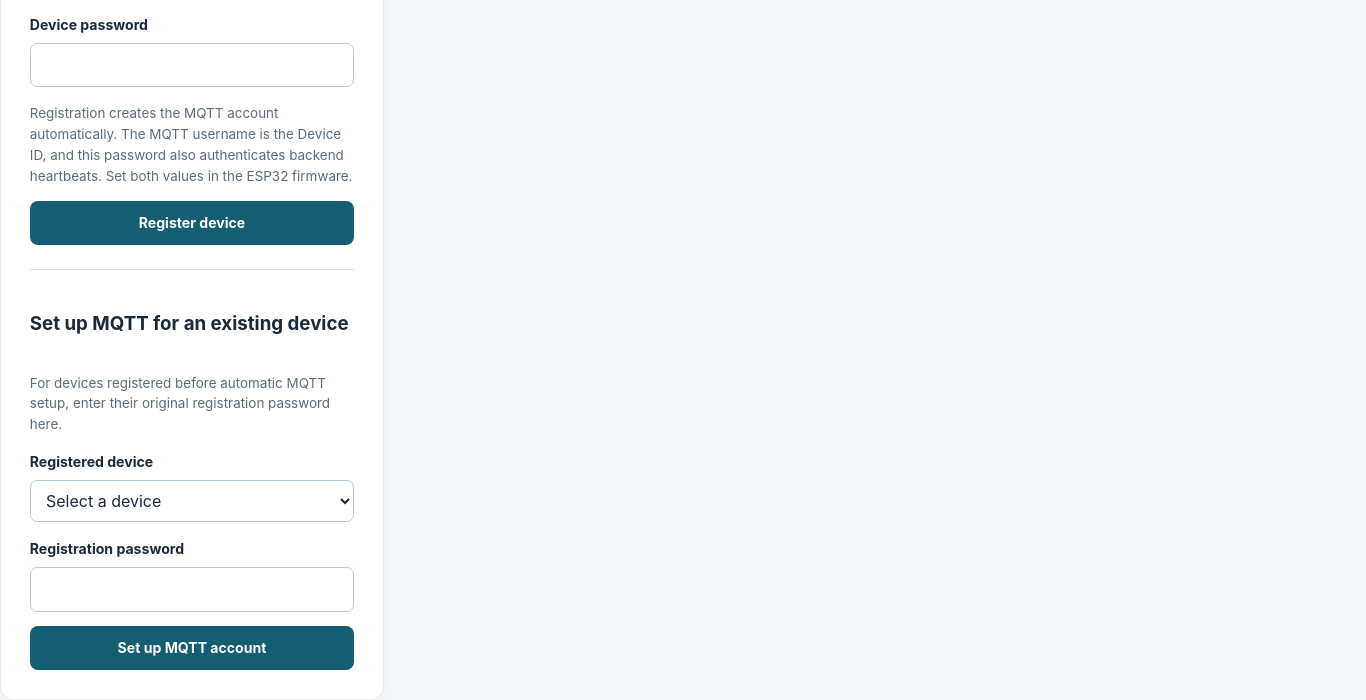
Test case: device management › sets up MQTT for a device registered earlier
The width and height of the screenshot is (1366, 700).
(page scrolled)
Select "ESP nano (esp-nano)" in the dropdown labelled "Registered device". click: (192, 501)
box: [30,480,354,522]
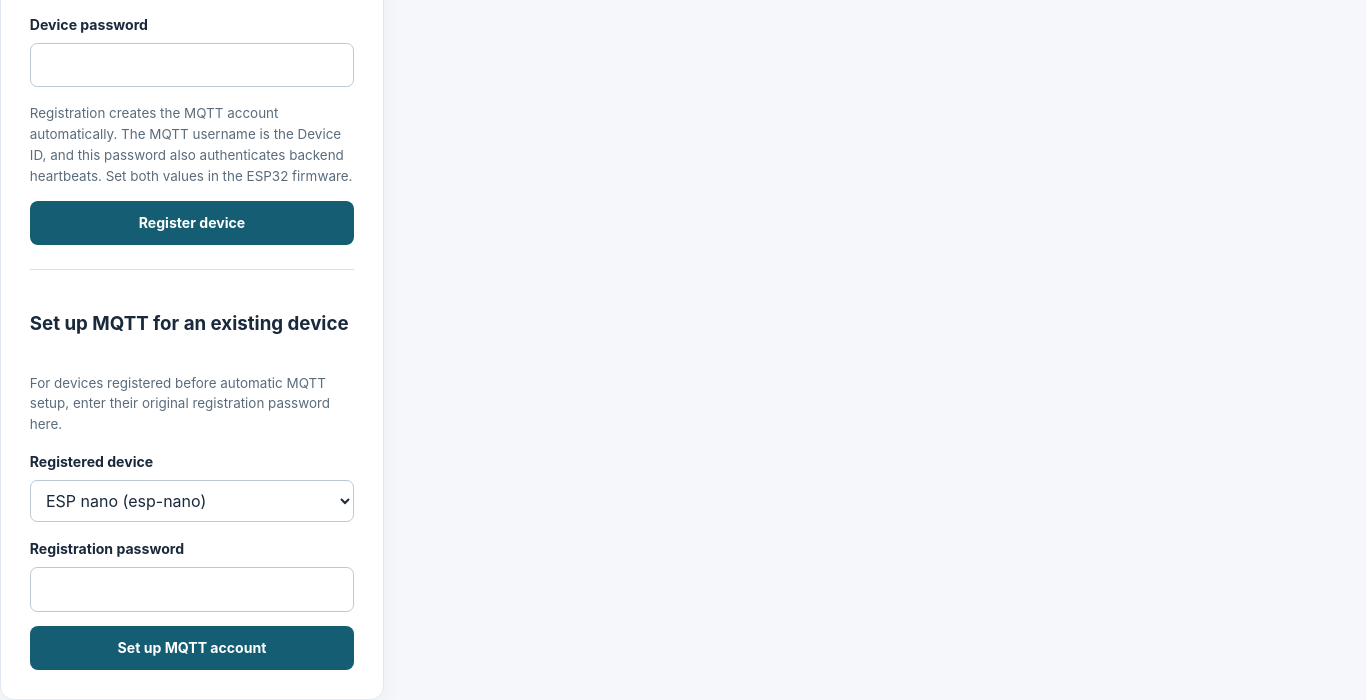
Type "long-device-password-123" into the password field labelled "Registration password". click: (192, 590)
box: [30,567,354,612]
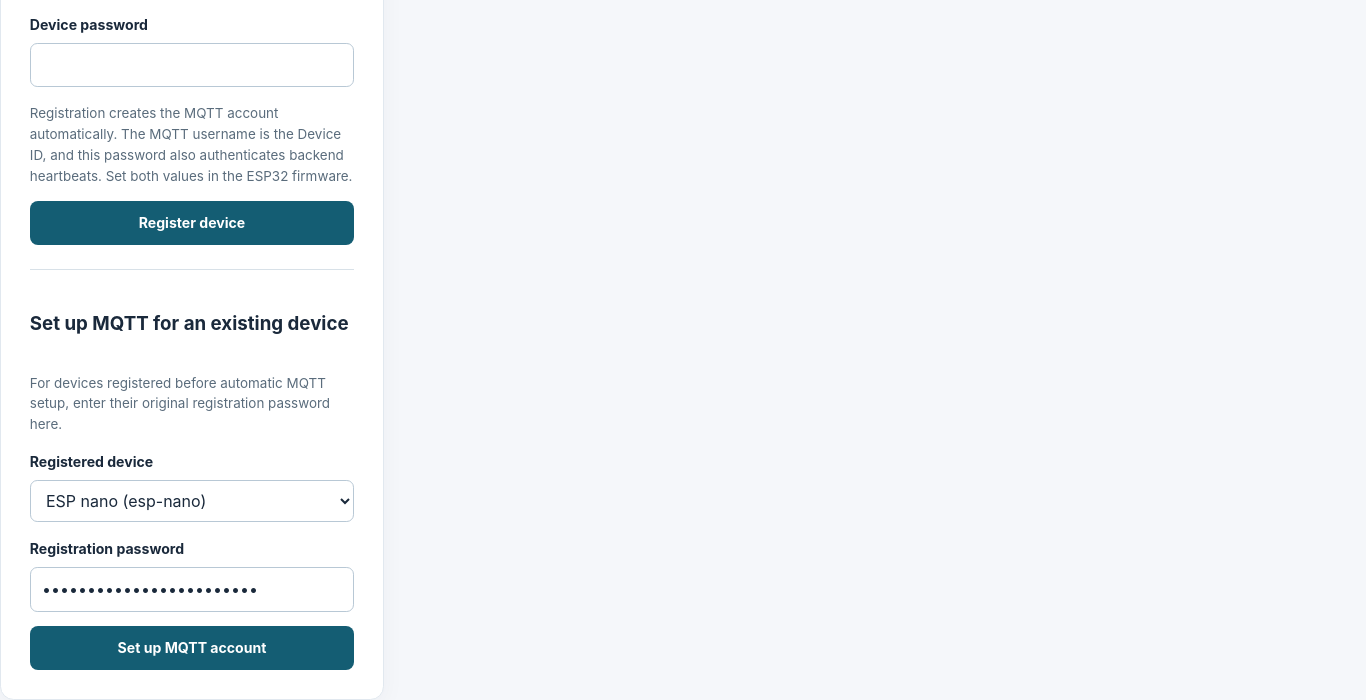
Click the button "Set up MQTT account". click: (192, 648)
box: [30,626,354,670]
(page scrolled)
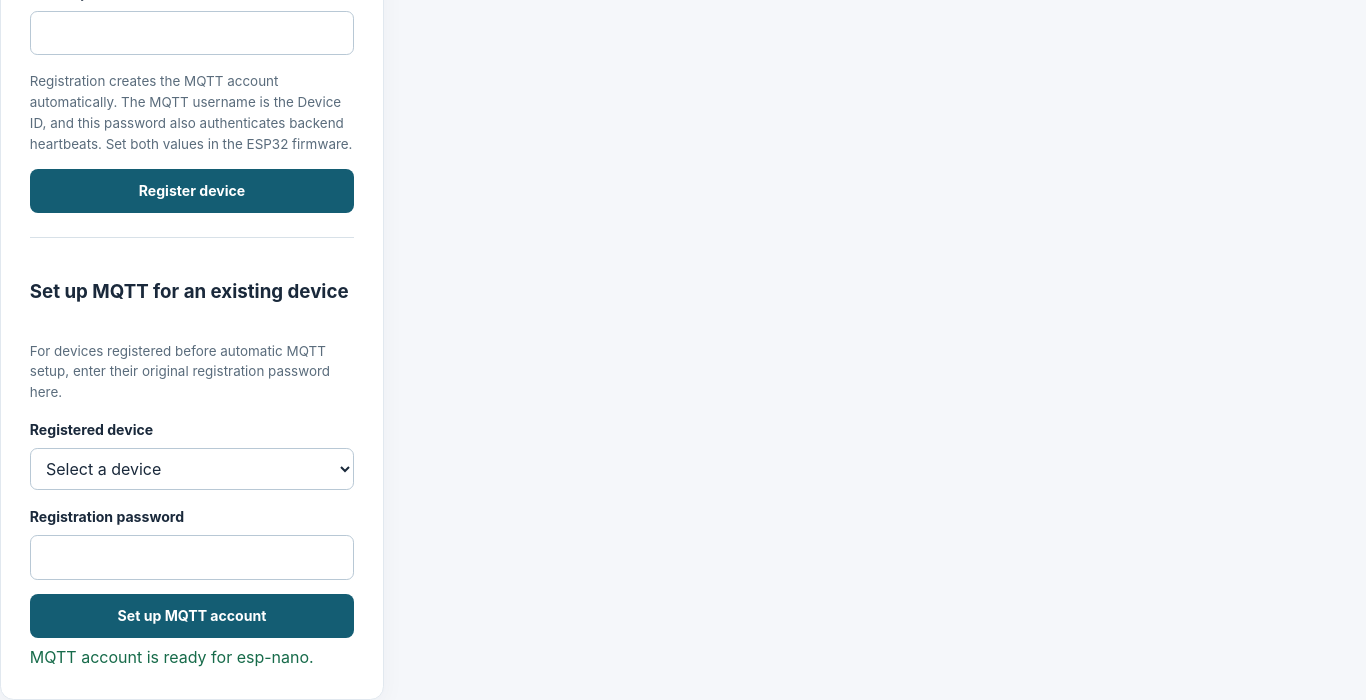
Check: the text "MQTT account is ready for esp-nano." is shown, box [30,646,354,670]
